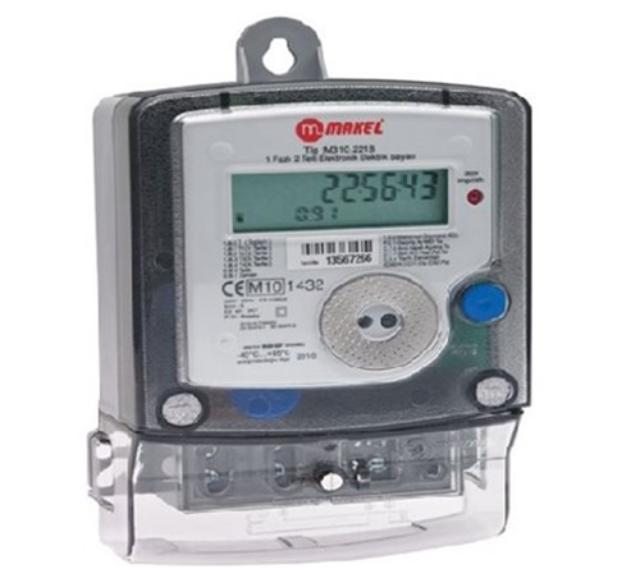electric-meter-detection: (88, 18, 530, 563)
